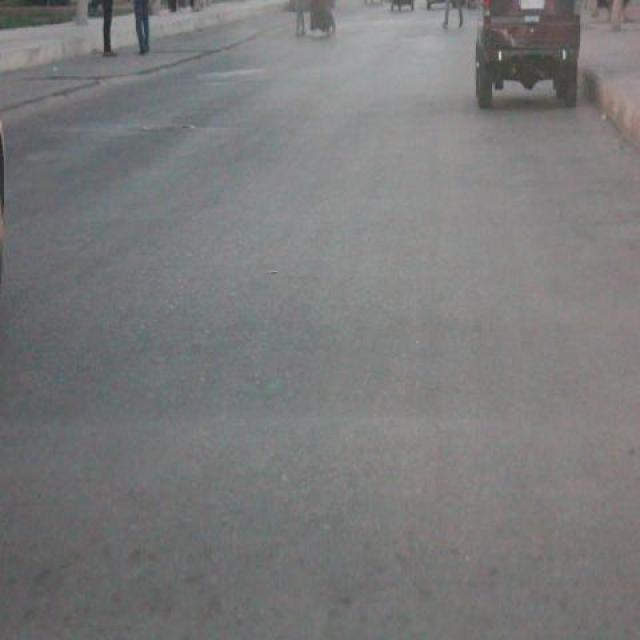Unmarked Bump: (0, 409, 639, 639)
